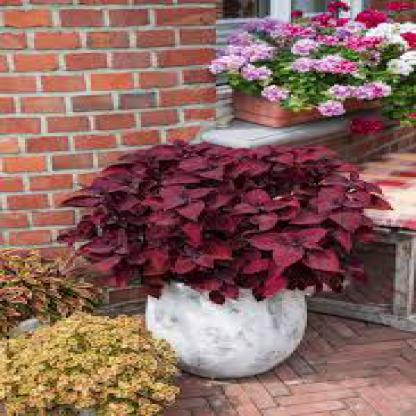Bunga Coleus: (78, 142, 390, 287)
